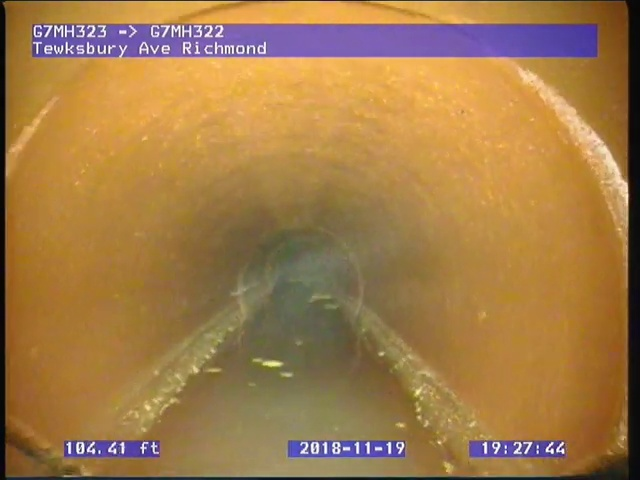crack: (6, 415, 98, 478)
